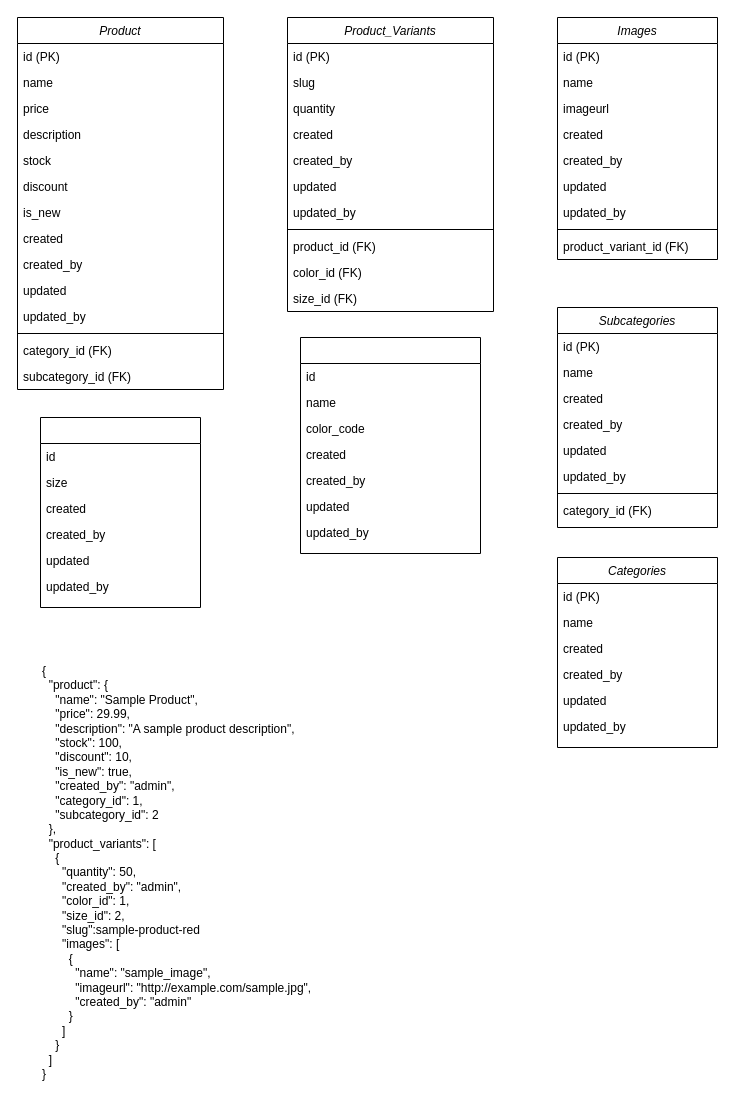
Some shapes in this 735 by 1105 pixel diagram are drawn without their labels. Here are the shapes that lost their labels. From the top down, the box of each, then its label:
(300, 336, 480, 554): Colors
(40, 416, 200, 608): Sizes
